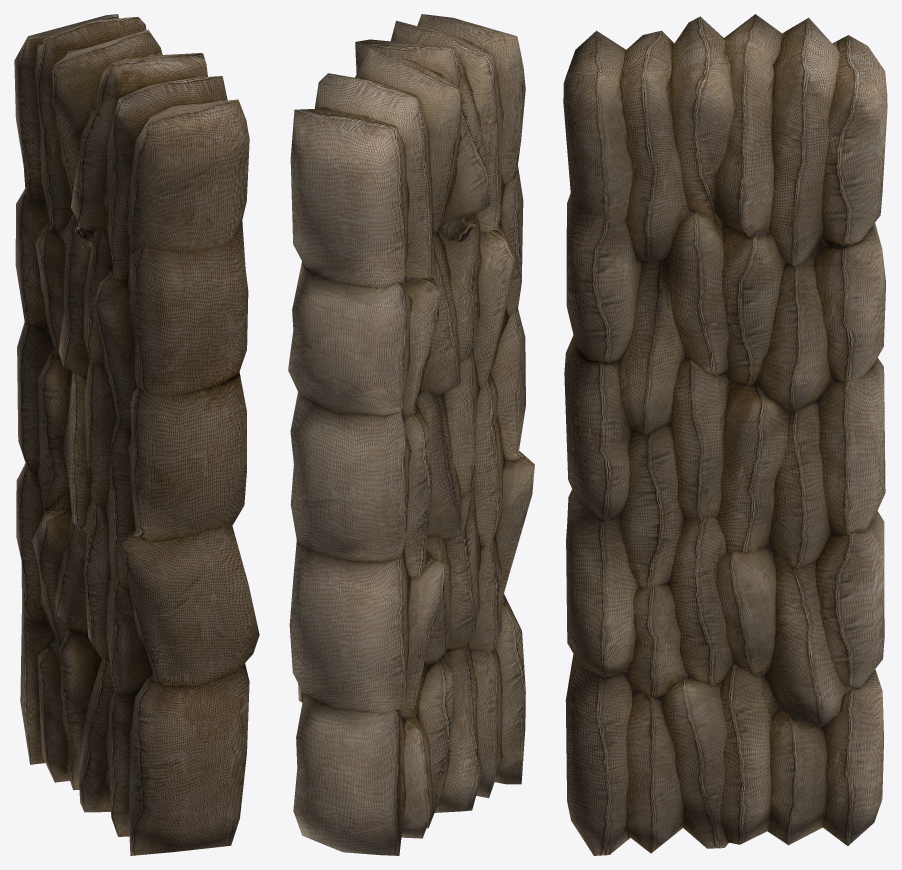
The picture shows the model from 3 angles, left to right: view 1: azimuth 30°, elevation 25°; view 2: azimuth 150°, elevation 25°; view 3: azimuth 270°, elevation 25°; orthographic projection. The views are drawn at different scales.
Visible parts, largest first — view 1: shabao_002; view 2: shabao_002; view 3: shabao_002.
Boxes of the visible parts, x1,y1,x2,y2 form: shabao_002: (14, 14, 259, 855); shabao_002: (288, 14, 534, 855); shabao_002: (563, 14, 887, 855).
Bounding box in the file's own units: 143 × 737 × 269.
